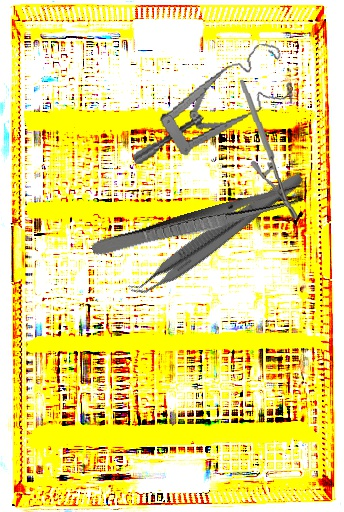Dressing Forceps: (90, 181, 305, 264)
Needle Holder: (240, 77, 299, 223)
Speculum: (117, 40, 302, 165)
Tissue Forceps: (126, 161, 306, 307)
